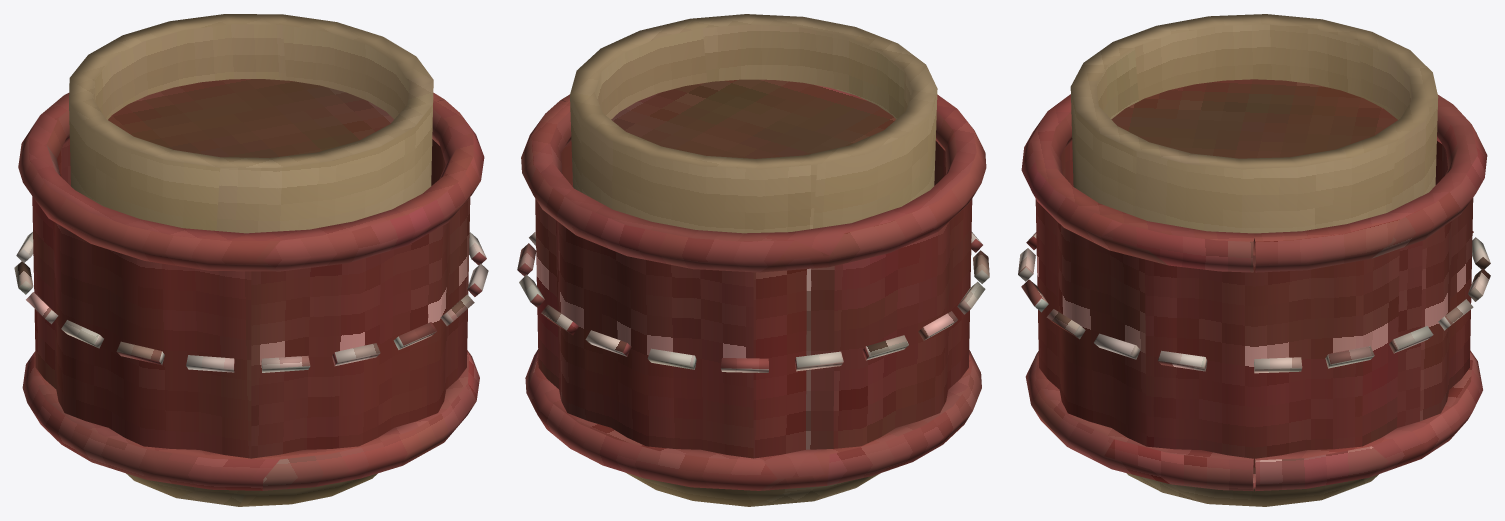
The model's file is cup.glb.
3 views of the same model, side by side, from view 1: azimuth 30°, elevation 25°; view 2: azimuth 150°, elevation 25°; view 3: azimuth 270°, elevation 25° (orthographic).
Visible parts, largest first — view 1: prop_cup_felt, prop_cup_wood; view 2: prop_cup_felt, prop_cup_wood; view 3: prop_cup_felt, prop_cup_wood.
Boxes of the visible parts, left/top/right/bottom form: prop_cup_felt: left=14, top=79, right=488, bottom=490; prop_cup_wood: left=69, top=14, right=433, bottom=506; prop_cup_felt: left=517, top=79, right=989, bottom=490; prop_cup_wood: left=570, top=14, right=937, bottom=506; prop_cup_felt: left=1018, top=79, right=1490, bottom=491; prop_cup_wood: left=1070, top=14, right=1438, bottom=506.
Size of the model in its own units: 0.1813 by 0.15 by 0.1808.
Materials: 2 (2 with a texture image).
